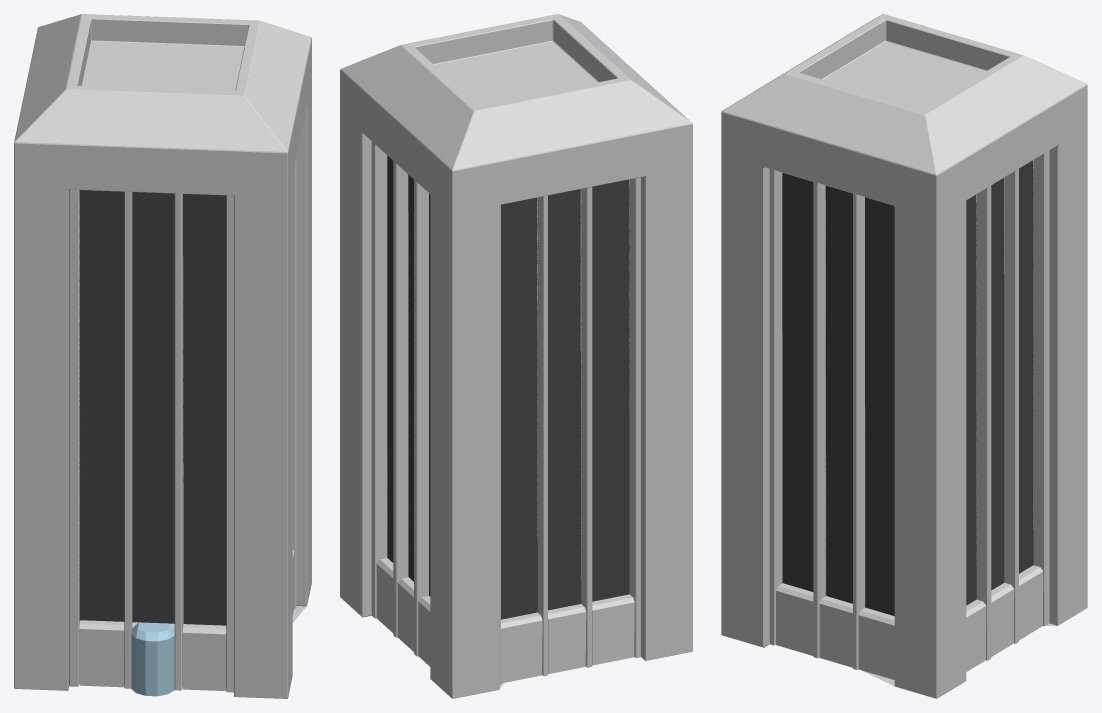
The model's file is Building_003.fbx.
3 views of the same model, side by side, from view 1: azimuth 30°, elevation 25°; view 2: azimuth 150°, elevation 25°; view 3: azimuth 270°, elevation 25° (orthographic). The views are drawn at different scales.
Visible parts, largest first — view 1: Building_003; view 2: Building_003; view 3: Building_003.
Part boxes in pixels (box(x1,y1,x2,y2)): Building_003: box(14, 14, 311, 698); Building_003: box(340, 14, 692, 698); Building_003: box(721, 14, 1087, 698).
Bounding box in the file's own units: 2575 × 4322 × 2575.
